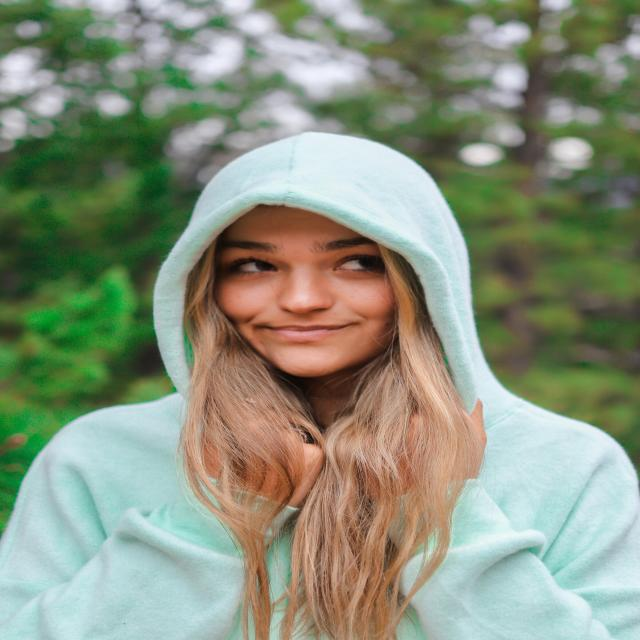4_capucha: (154, 126, 490, 424)
